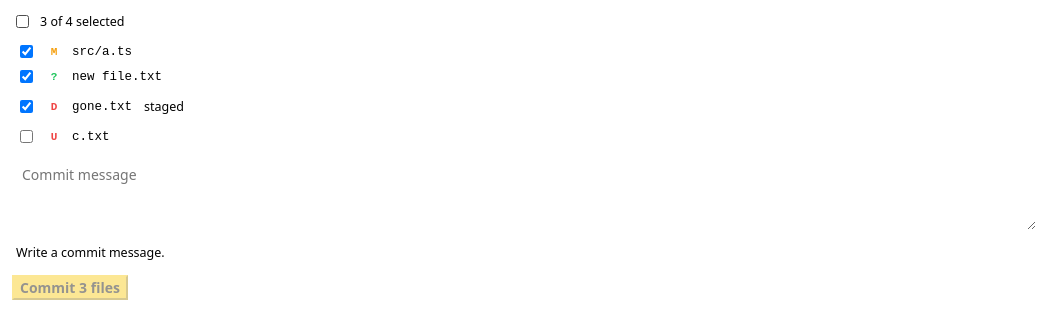
Test: ChangesView › conflicted files start unselected and block the commit if picked
Expected: the text "3 of 4 selected" is shown, 16,13 -> 124,30
Step 1. Type "m" into the text box labelled "Commit message" → (524, 194), box 12,157 -> 1036,230
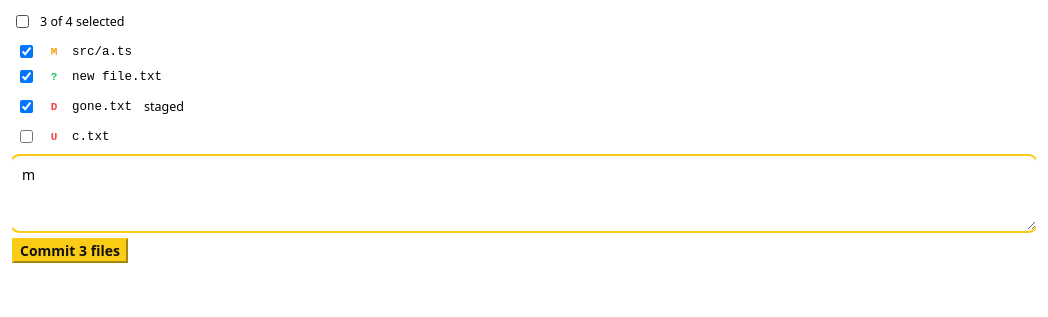
Step 2. Click the checkbox labelled "c.txt" → (26, 136), box 20,130 -> 33,143
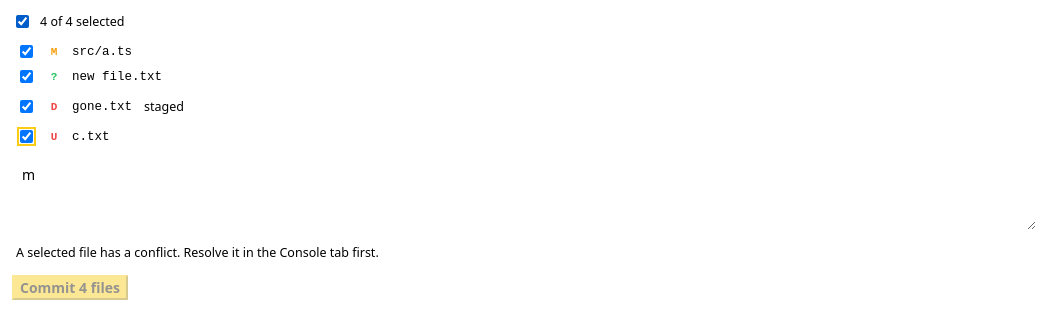
Result: the text "conflict" is shown at 16,244 -> 379,261
Result: the button "Commit 4 files" is disabled at 12,275 -> 128,300
